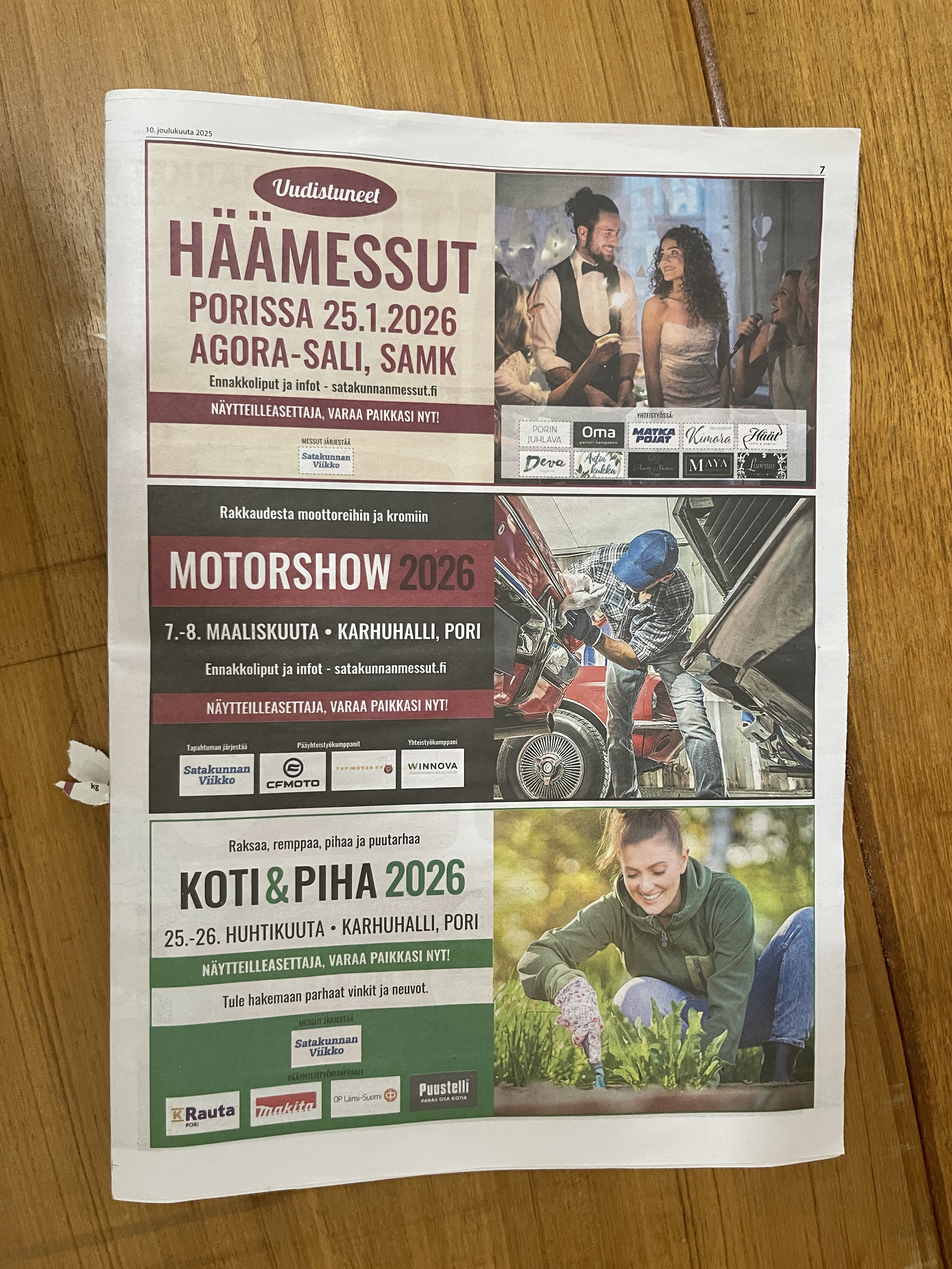paper: (103, 88, 865, 1205)
